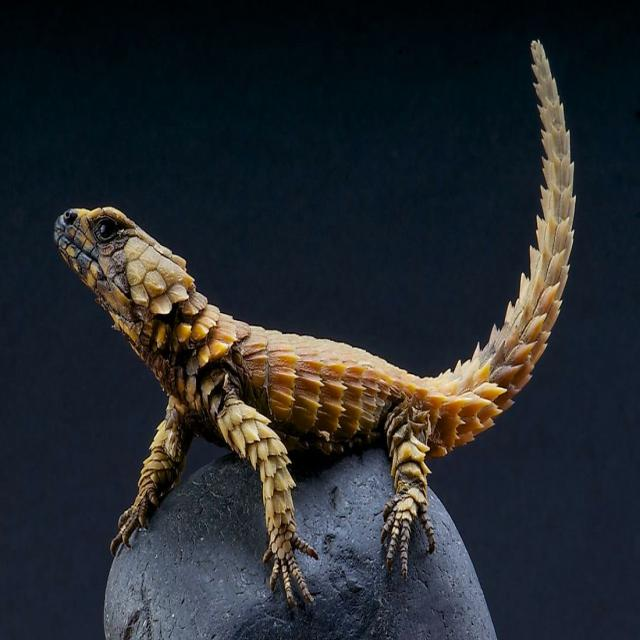lizard: (55, 41, 576, 607)
